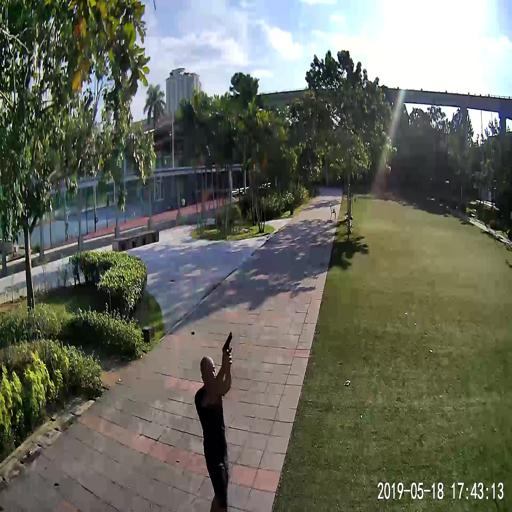pistol: (221, 331, 232, 355)
